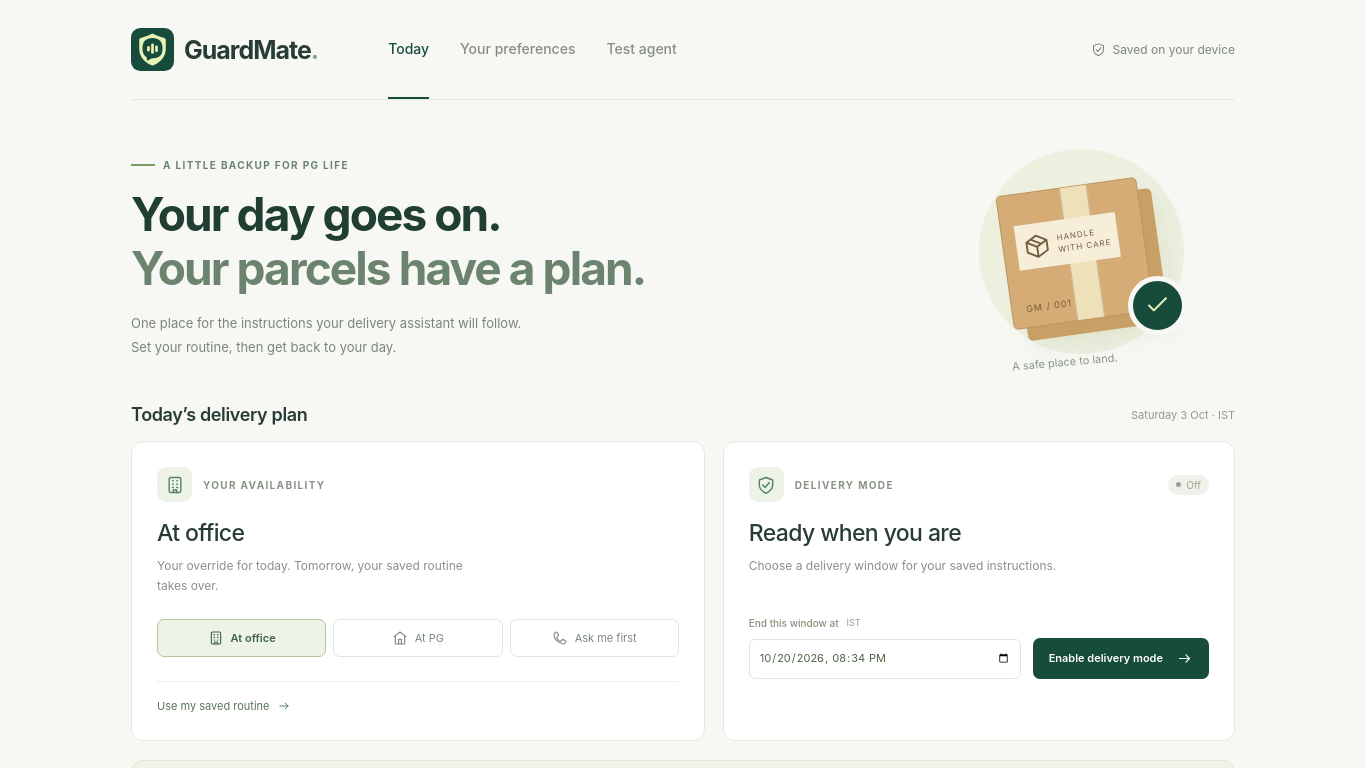
Test: dashboard interaction isolation › renders notifications outside the page flow; dismissing them does not re-render cards
Click the button "At PG" at [418, 638], box top-left (333, 619), bottom-right (503, 657)
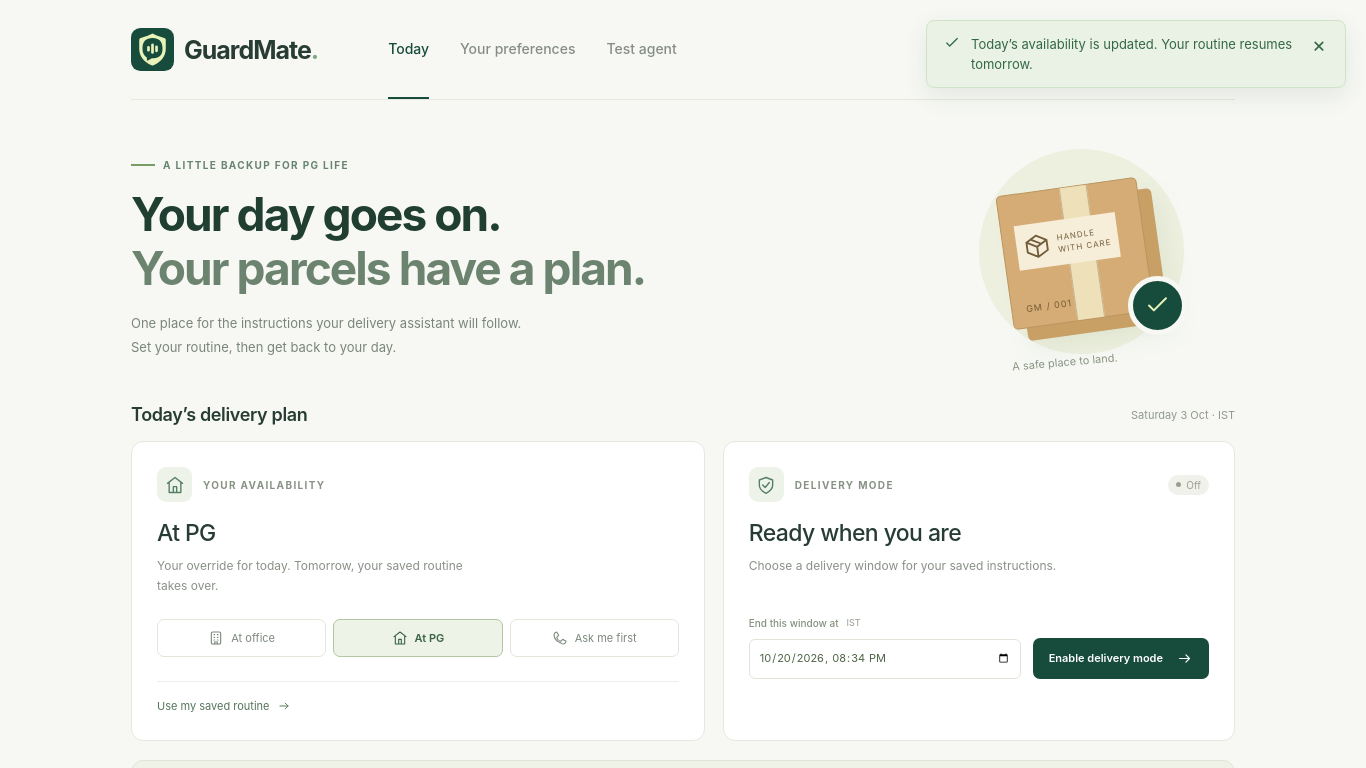
Check: the text "Today’s availability is updated. Your routine resumes tomorrow." is shown, box top-left (971, 36), bottom-right (1292, 72)
Click the button named "Dismiss notification" at [1319, 44], box top-left (1309, 34), bottom-right (1329, 55)
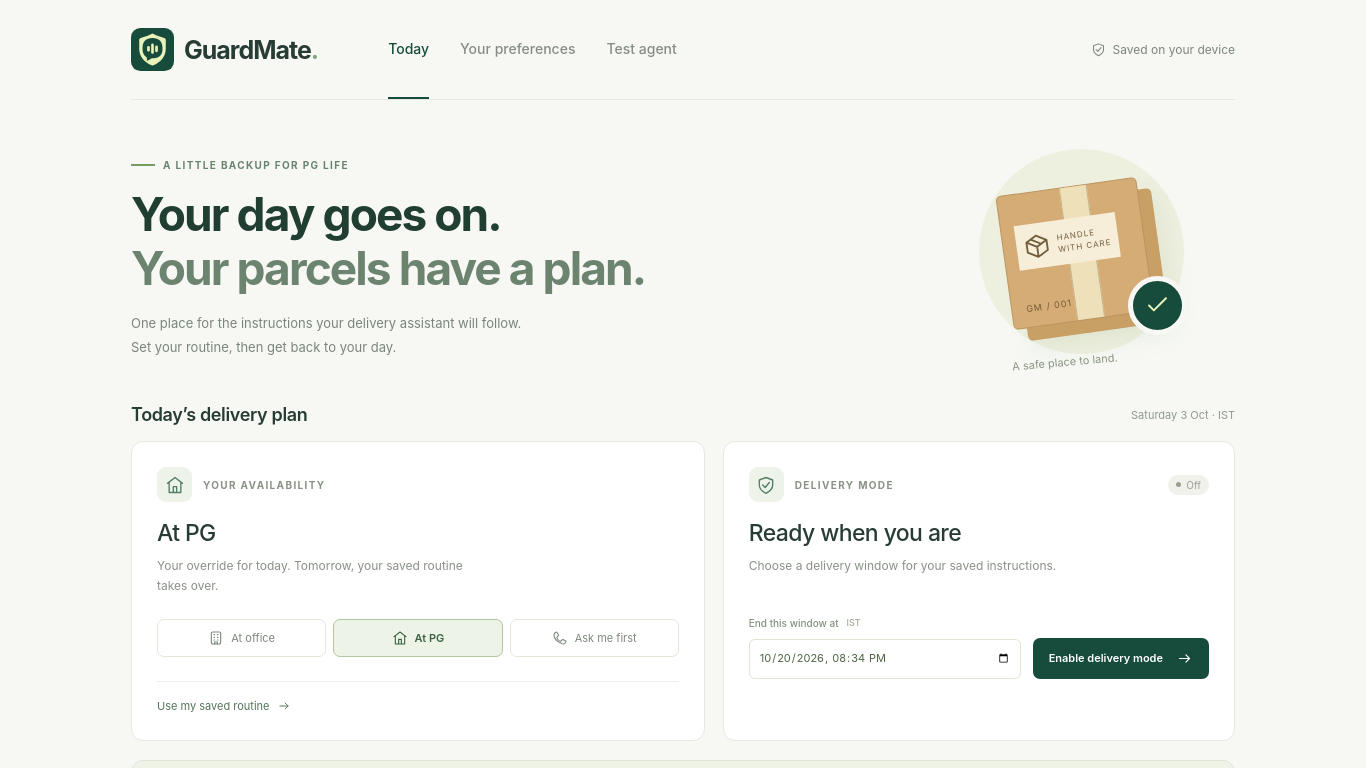
Check: the text "Today’s availability is updated. Your routine resumes tomorrow." is gone
